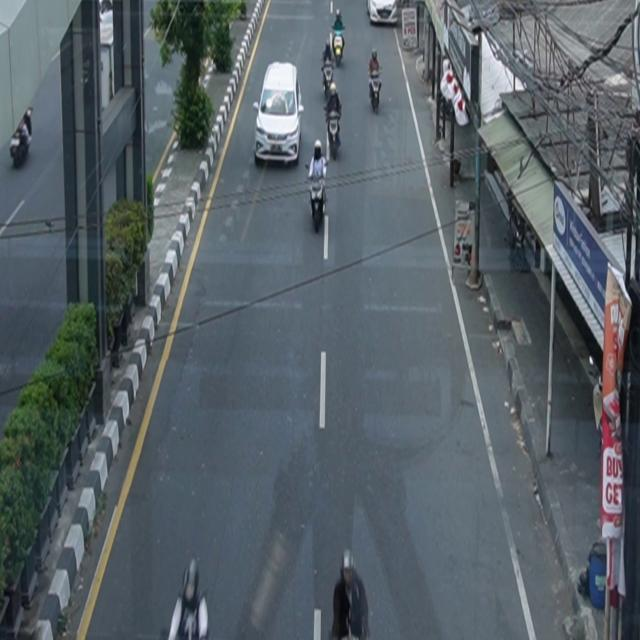car: (253, 62, 305, 167), (367, 1, 398, 26)
